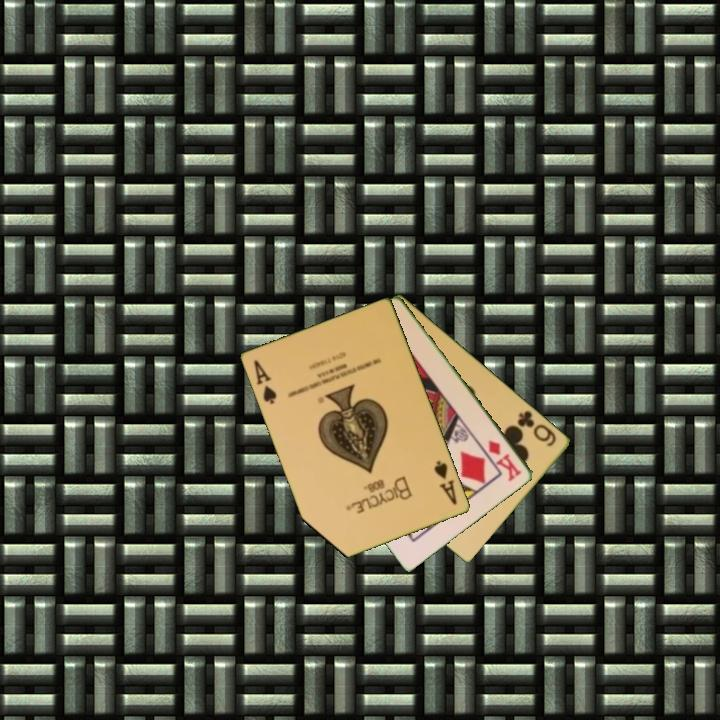6c: (514, 407, 560, 450)
As: (250, 356, 280, 407), (431, 457, 460, 508)
Kd: (485, 436, 525, 484)
